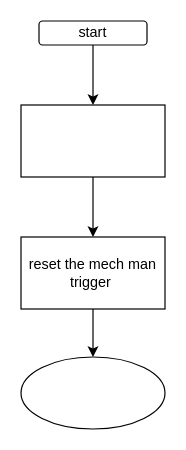
Some shapes in this 186 by 450 pixel diagram are drawn without their labels. Here are the shapes that lost their labels. From the top down, the centre of each, then its label:
point 92,140: restore the truck hp and service time
point 92,392: end
